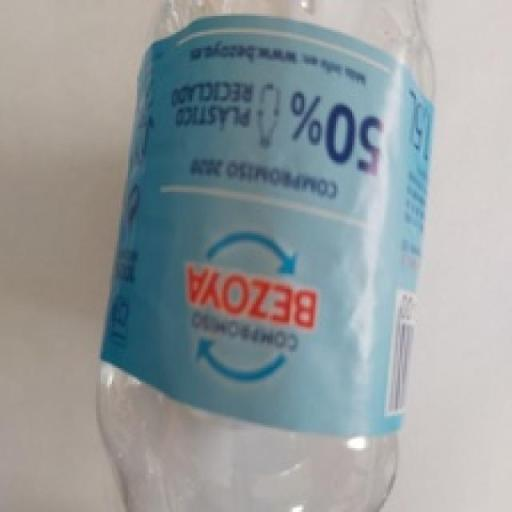plastic: (78, 2, 448, 512)
